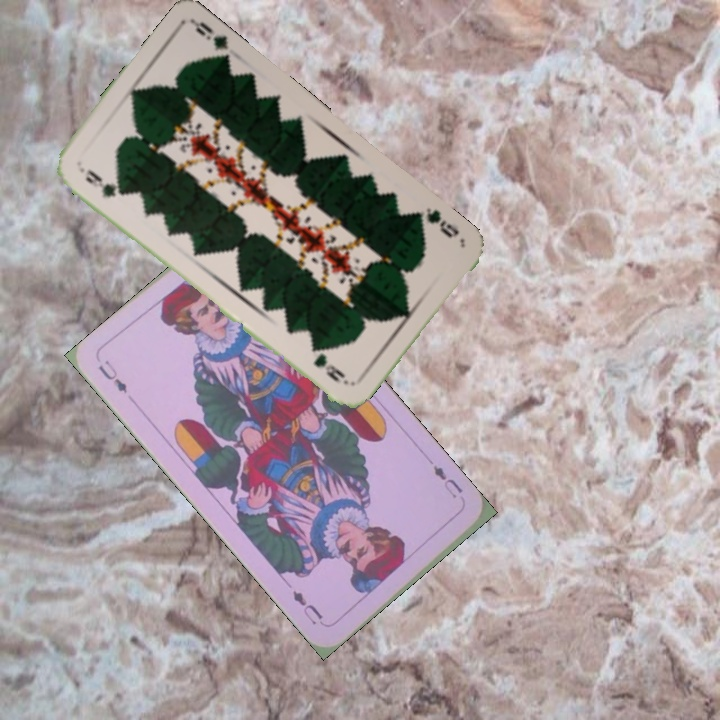EU: (428, 460, 466, 501), (94, 355, 130, 396)
G9: (75, 163, 126, 201), (422, 203, 462, 241)
